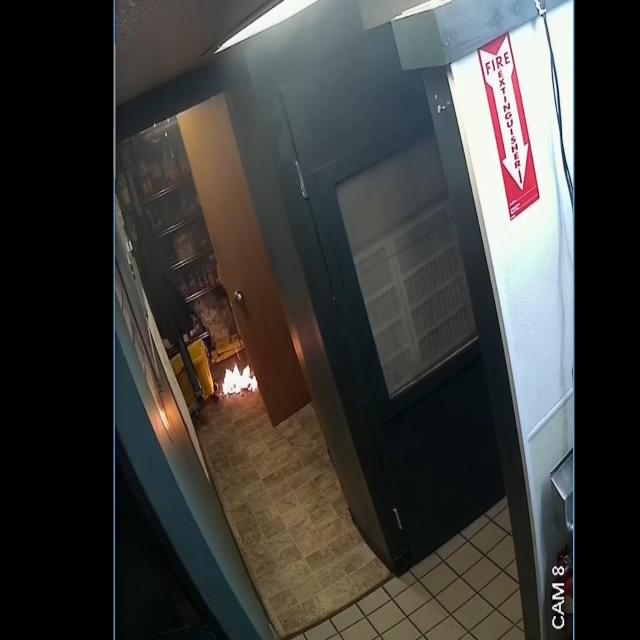fire: (222, 364, 258, 395)
